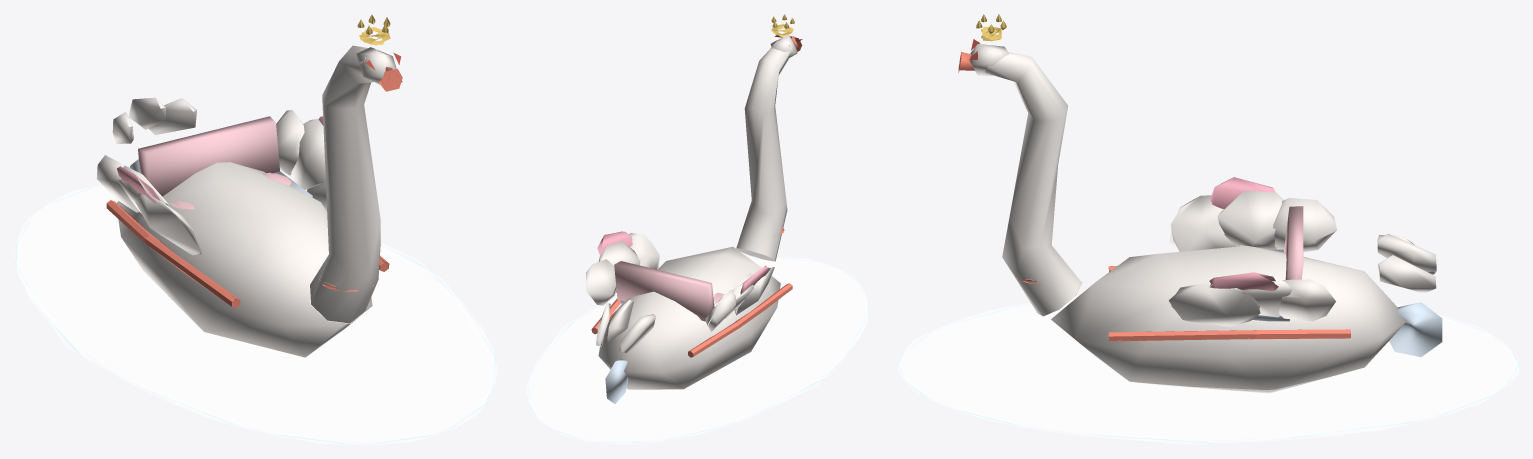
The model's file is lod_swan_boat.glb.
3 renders of one model, left to right at view 1: azimuth 30°, elevation 25°; view 2: azimuth 150°, elevation 25°; view 3: azimuth 270°, elevation 25°, orthographic. The views are drawn at different scales.
Visible parts, largest first — view 1: swan_boat; view 2: swan_boat; view 3: swan_boat.
Boxes of the visible parts, bbox=[...] form: swan_boat: bbox=[14, 14, 497, 444]; swan_boat: bbox=[526, 14, 869, 444]; swan_boat: bbox=[898, 14, 1518, 444].
Bounding box in the file's own units: 2.6 × 2.84 × 4.38.
